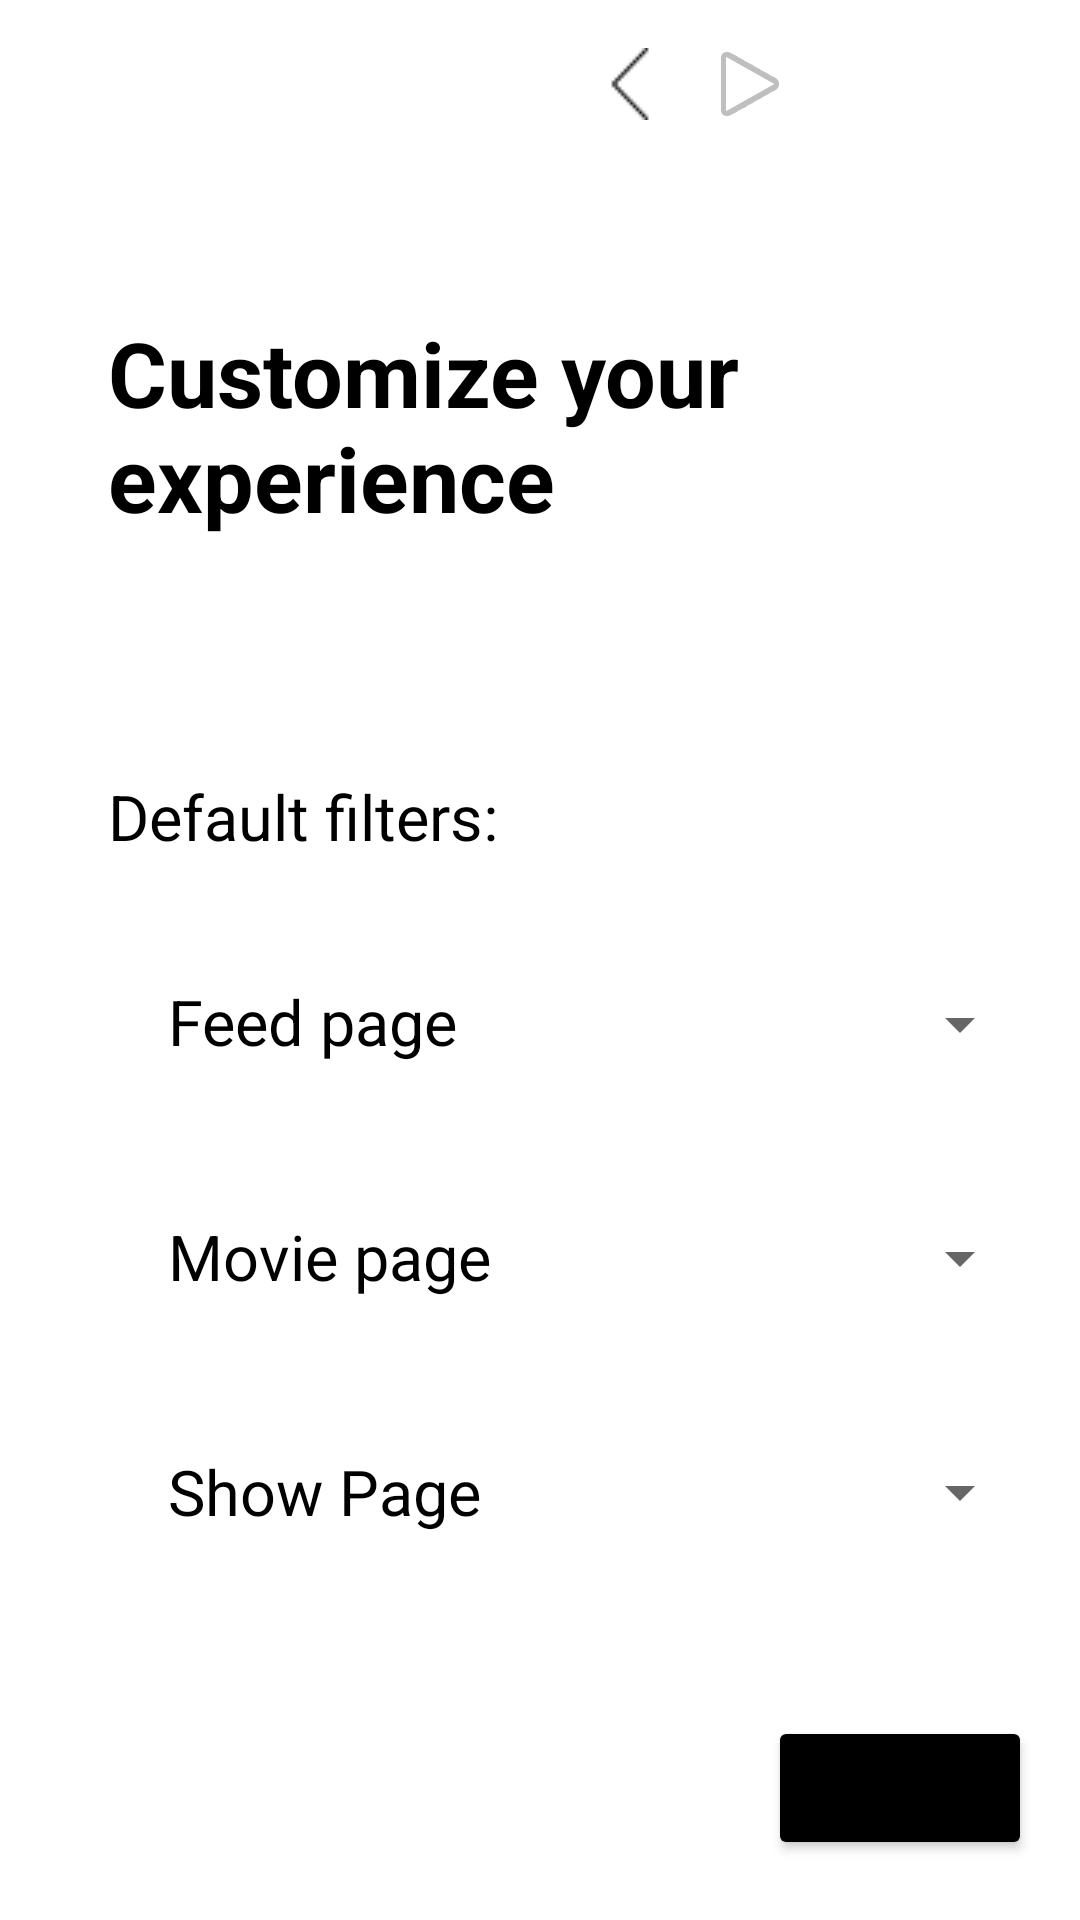

Icon click points for this 1080×1920 phone screenshot, format (x,y):
play: (750,84)
